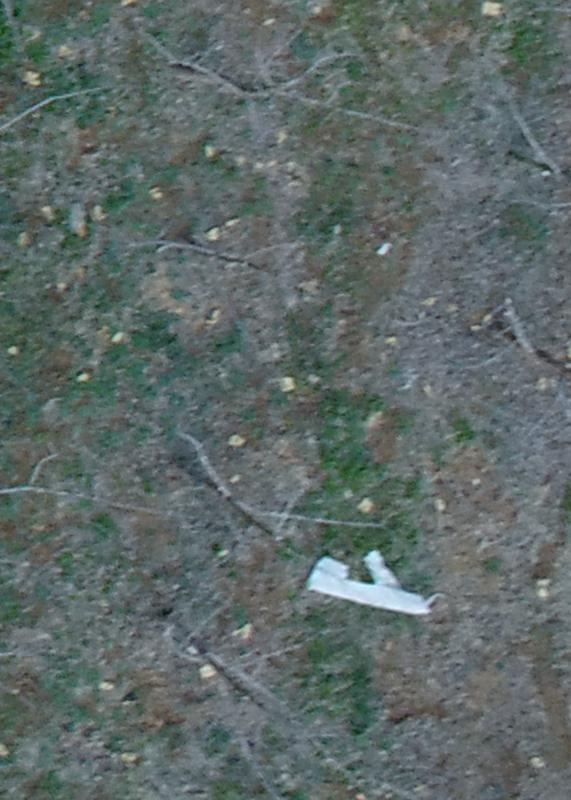apple: (107, 10, 434, 172), (119, 407, 360, 587)
